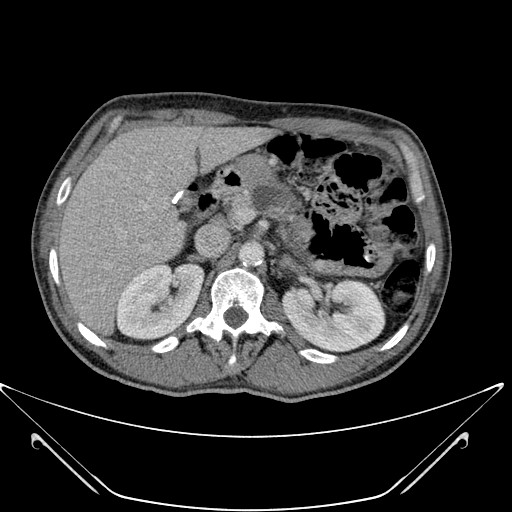clipe: (171, 190, 183, 204)
